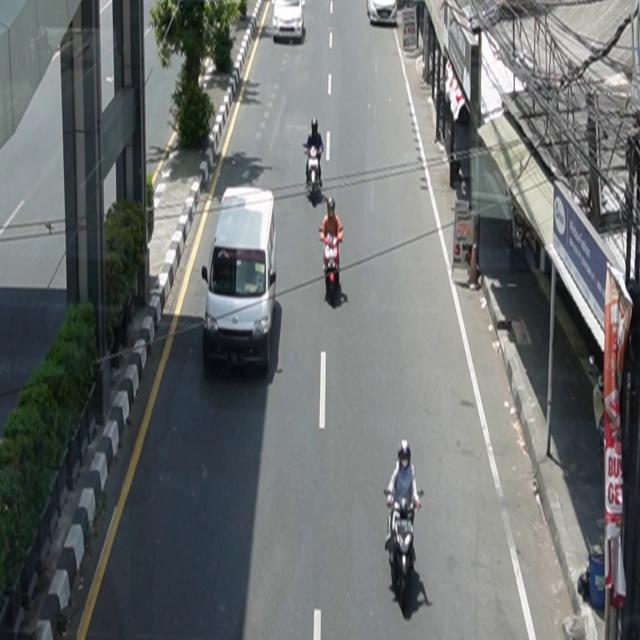car: (273, 1, 306, 43), (367, 1, 398, 26)
truck: (202, 186, 278, 378)
